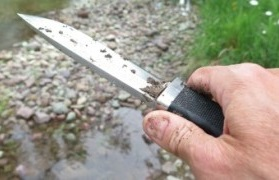knife: (12, 7, 236, 159)
